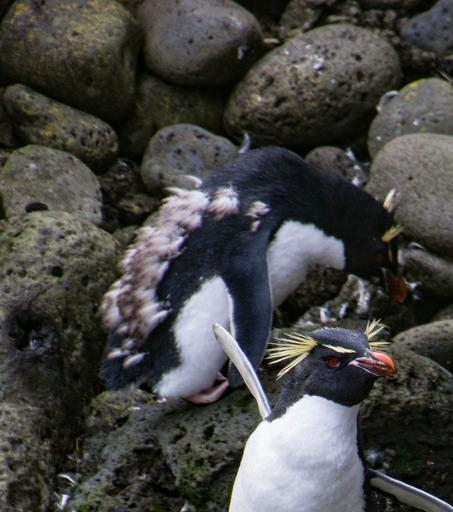Southern Rockhopper Penguin: (80, 146, 274, 422), (212, 122, 430, 356), (222, 292, 436, 512)
